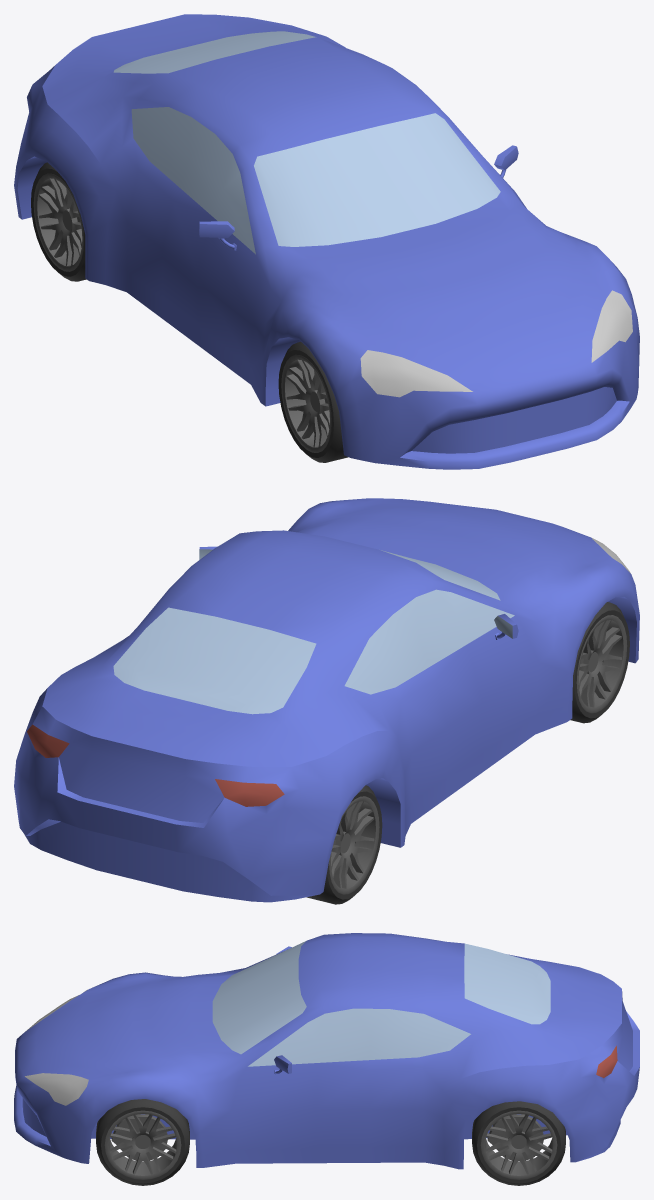
The model's file is TestToyota_gt86.fbx.
3 renders of one model, top to bottom at view 1: azimuth 30°, elevation 25°; view 2: azimuth 150°, elevation 25°; view 3: azimuth 270°, elevation 25°, orthographic. The views are drawn at different scales.
Visible parts, largest first — view 1: BaseCar, WheelFrontL, WheelBackL; view 2: BaseCar, WheelFrontL, WheelBackL; view 3: BaseCar, WheelFrontR, WheelBackR.
Part boxes in pixels (<box>): BaseCar: <box>14,14,639,469</box>; WheelFrontL: <box>278,341,348,462</box>; WheelBackL: <box>31,162,86,281</box>; BaseCar: <box>14,498,639,902</box>; WheelFrontL: <box>570,602,629,723</box>; WheelBackL: <box>307,785,382,904</box>; BaseCar: <box>14,933,639,1169</box>; WheelFrontR: <box>96,1099,189,1185</box>; WheelBackR: <box>472,1101,565,1185</box>.
Size of the model in its own units: 190 by 129 by 424.
